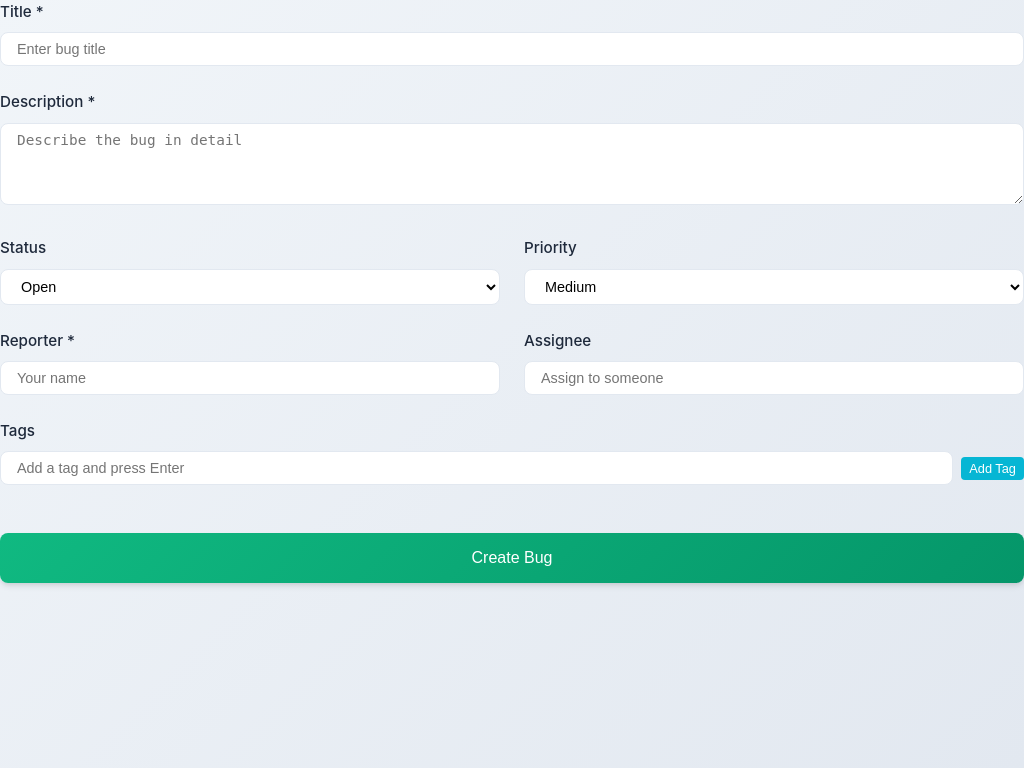
it: BugForm Component › clears validation errors when user starts typing
The width and height of the screenshot is (1024, 768).
Note: Submit empty form to trigger errors
Click the button with test id "bug-submit-button" at (512, 558), box x1=0 y1=533 x2=1023 y2=583
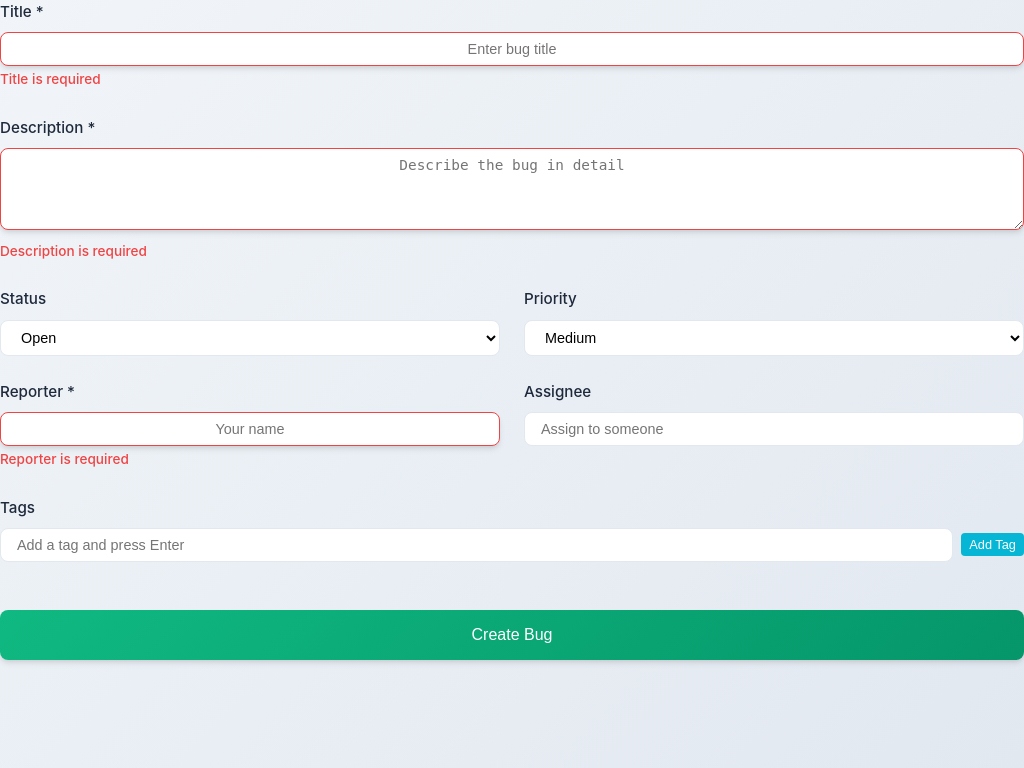
Expected: the text "Title is required" is shown, x1=0 y1=71 x2=101 y2=87
Note: Start typing in title field
Type "a" into the field with test id "bug-title-input" at (512, 49), box x1=0 y1=32 x2=1023 y2=66
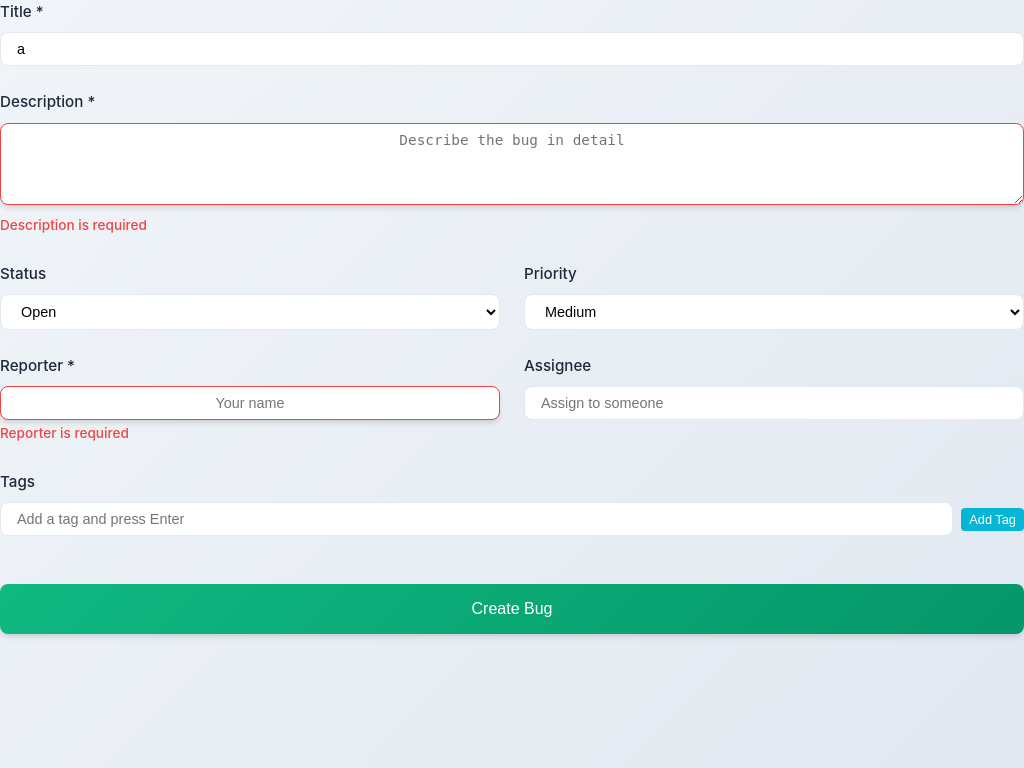
Expected: the text "Title is required" is gone
